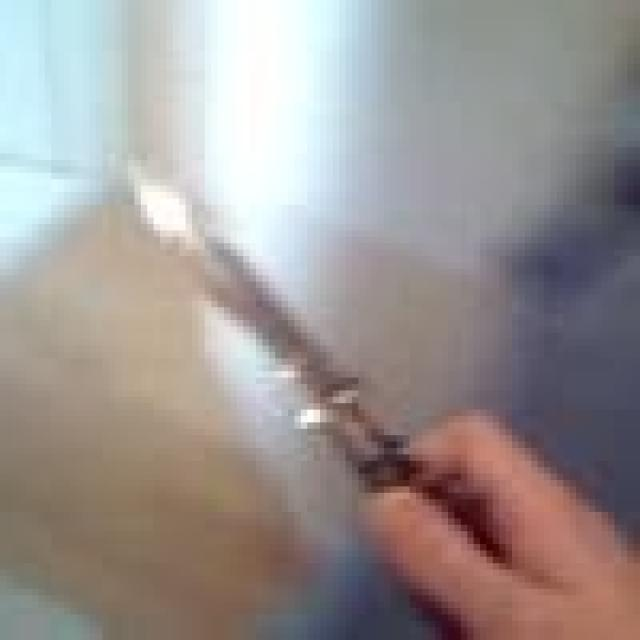senjata_tajam: (118, 150, 422, 490)
